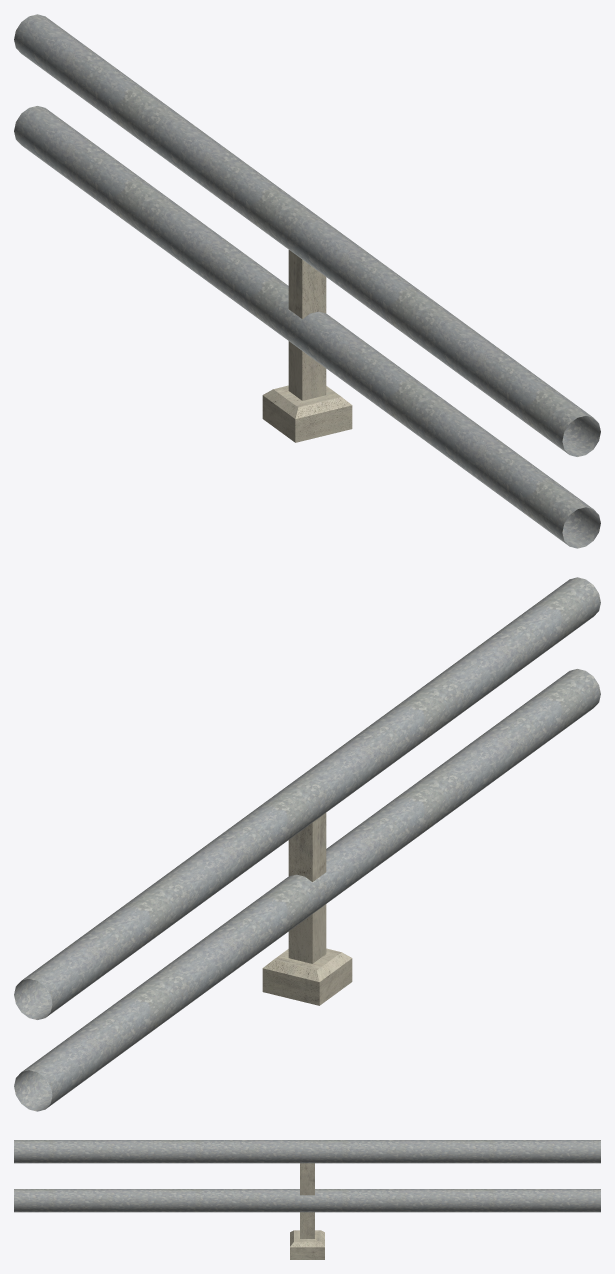
The model's file is GSDRailing6-5M-Single.FBX.
3 renders of one model, top to bottom at view 1: azimuth 30°, elevation 25°; view 2: azimuth 150°, elevation 25°; view 3: azimuth 270°, elevation 25°, orthographic. The views are drawn at different scales.
Parts seen in each view (by area): view 1: GSDRailing6-5M-Single; view 2: GSDRailing6-5M-Single; view 3: GSDRailing6-5M-Single.
Boxes of the visible parts, box(x1,y1,x2,y2) form: GSDRailing6-5M-Single: box(14, 14, 600, 548); GSDRailing6-5M-Single: box(14, 577, 600, 1111); GSDRailing6-5M-Single: box(14, 1140, 600, 1259).
Size of the model in its own units: 0.3 by 1.05 by 5.
